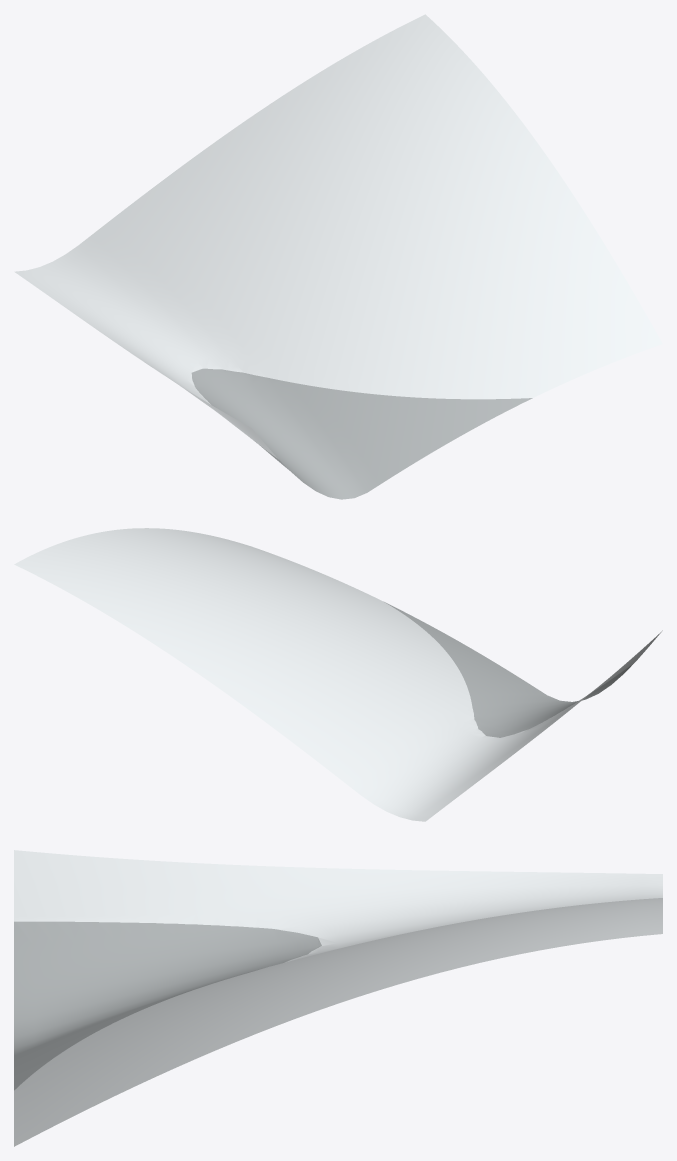
Rendered from alpine-13-10.glb.
The picture shows the model from 3 angles, top to bottom: view 1: azimuth 30°, elevation 25°; view 2: azimuth 150°, elevation 25°; view 3: azimuth 270°, elevation 25°; orthographic projection. The views are drawn at different scales.
Parts seen in each view (by area): view 1: alpine-13-10; view 2: alpine-13-10; view 3: alpine-13-10.
Part boxes in pixels (x1=…): alpine-13-10: x1=14, y1=14, x2=662, y2=499; alpine-13-10: x1=14, y1=528, x2=662, y2=821; alpine-13-10: x1=14, y1=850, x2=662, y2=1146.
Size of the model in its own units: 256 by 140 by 256.
Materials: 2 (2 with a texture image).
